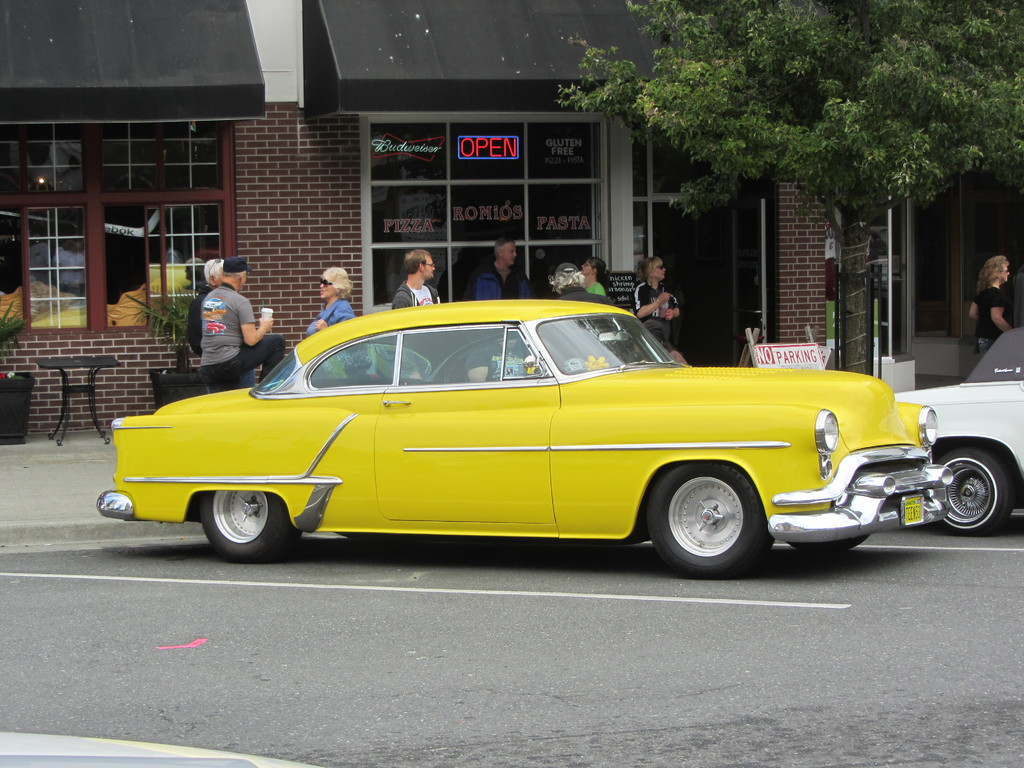Car: (95, 300, 953, 581), (891, 327, 1023, 536)
